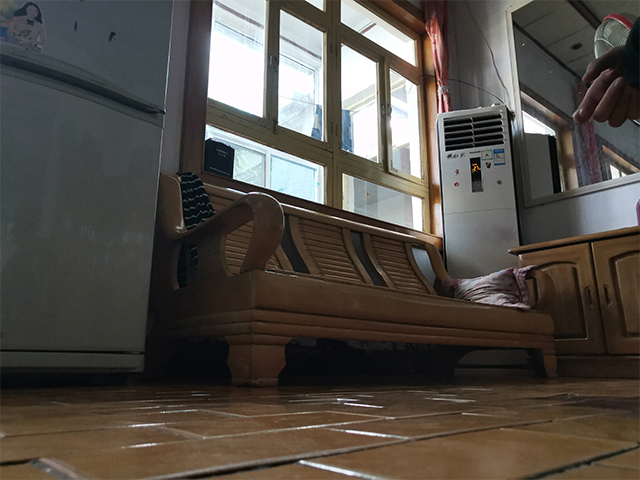cabinet: (505, 225, 640, 381)
stool: (144, 169, 560, 390)
